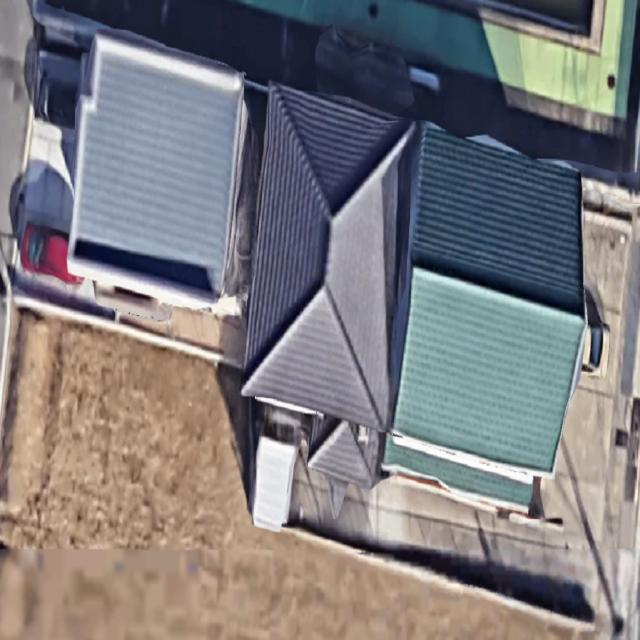Batiment: (385, 126, 586, 504), (245, 85, 415, 430), (68, 30, 259, 307)
